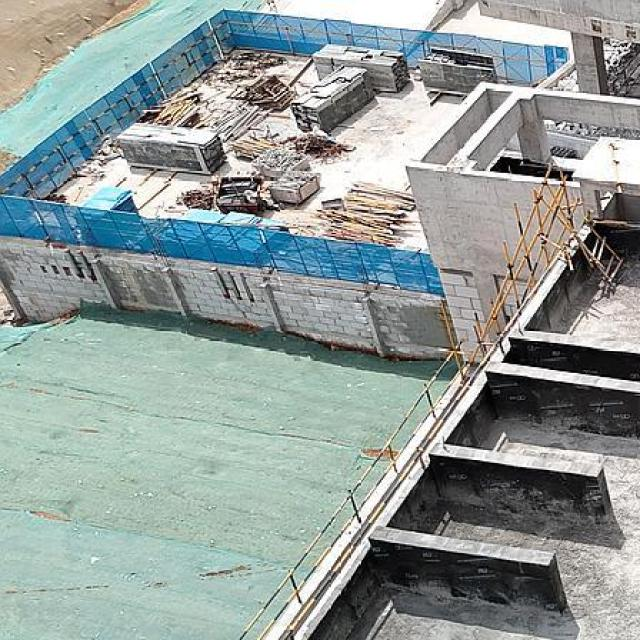edge_guardrail: (278, 217, 638, 640), (237, 338, 475, 640), (0, 19, 261, 200), (611, 48, 640, 98)
